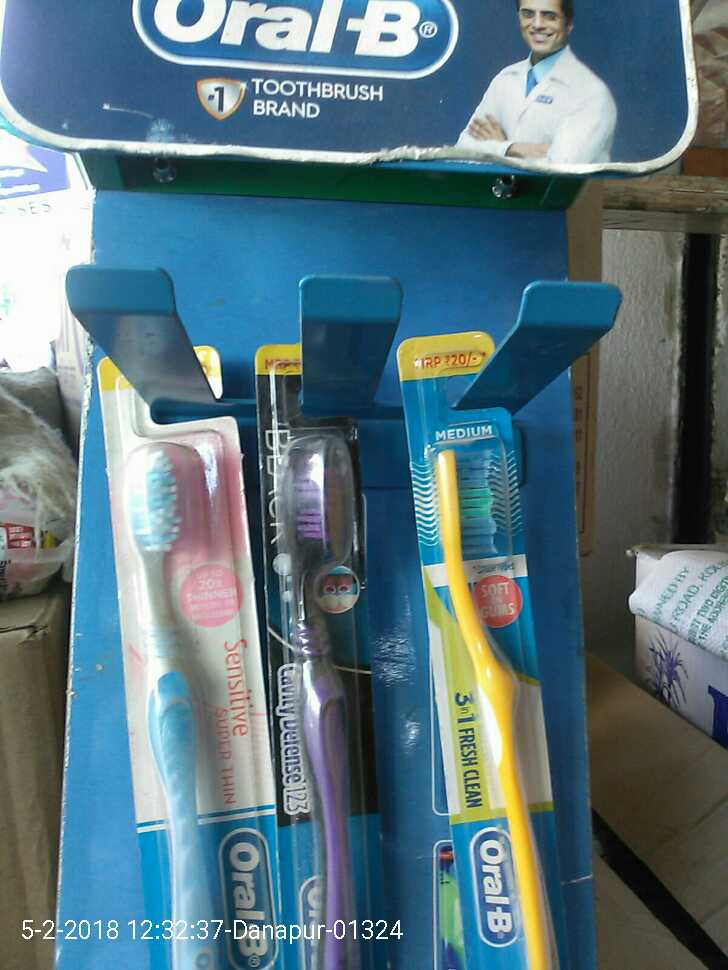oralb: (101, 365, 305, 970), (393, 337, 568, 970), (251, 344, 403, 970)
